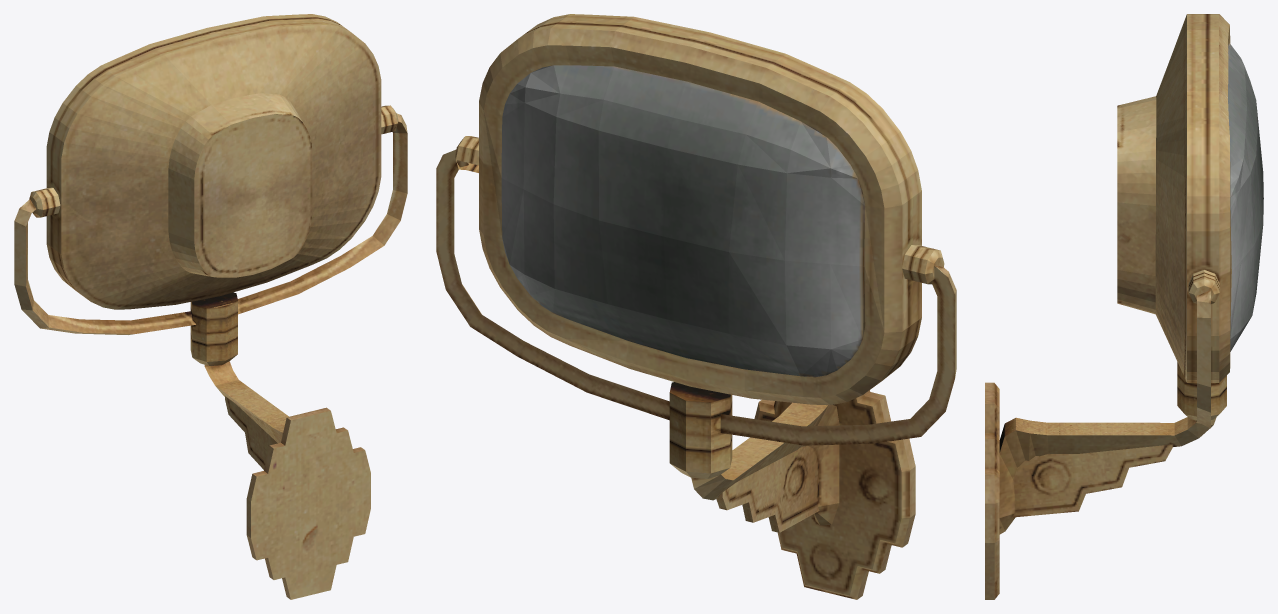
Rendered from WallTV.obj.
The picture shows the model from 3 angles, left to right: view 1: azimuth 30°, elevation 25°; view 2: azimuth 150°, elevation 25°; view 3: azimuth 270°, elevation 25°; orthographic projection. The views are drawn at different scales.
Visible parts, largest first — view 1: WallTV; view 2: WallTV; view 3: WallTV.
Part boxes in pixels (bbox=[...]): WallTV: bbox=[14, 14, 407, 599]; WallTV: bbox=[436, 14, 956, 599]; WallTV: bbox=[985, 14, 1263, 599].
Size of the model in its own units: 103 by 122 by 58.01.
1 material, 1 textured.
